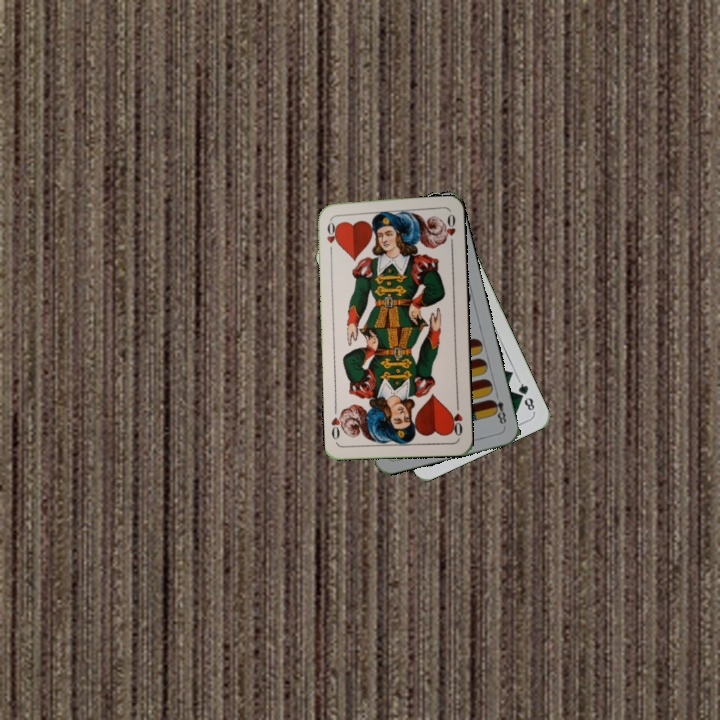E8: (487, 389, 509, 427)
G8: (514, 376, 537, 415)
HO: (447, 399, 465, 438), (323, 215, 340, 246)
